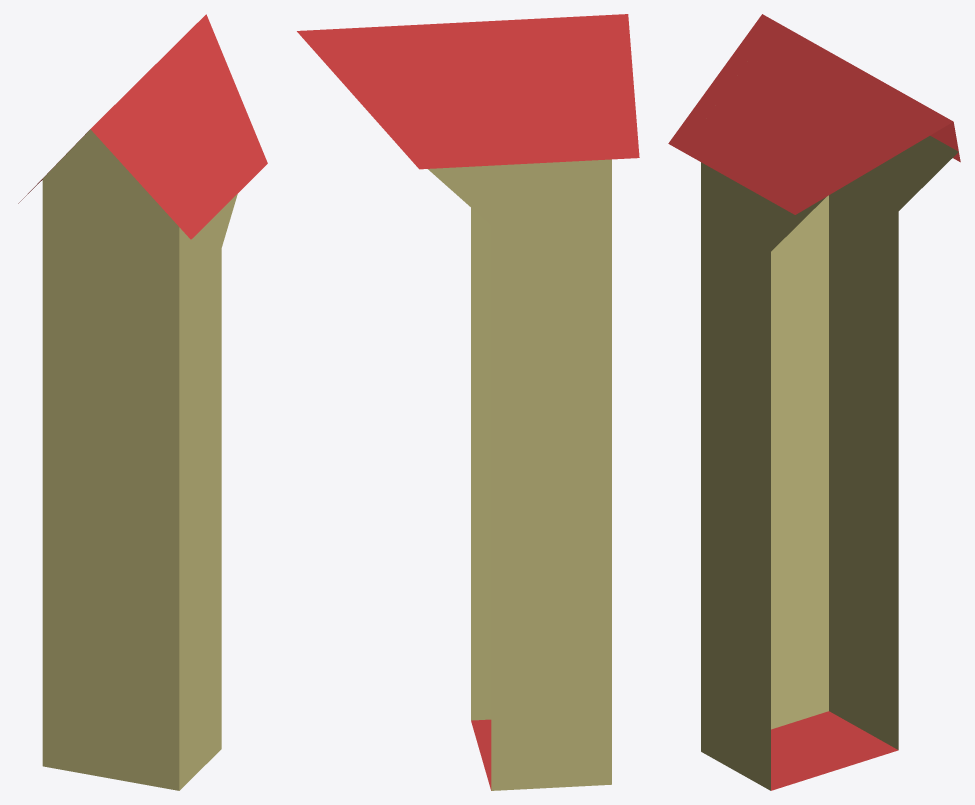
The picture shows the model from 3 angles, left to right: view 1: azimuth 30°, elevation 25°; view 2: azimuth 150°, elevation 25°; view 3: azimuth 270°, elevation 25°; orthographic projection. The views are drawn at different scales.
Size of the model in its own units: 6.56 by 6.22 by 16.56.
